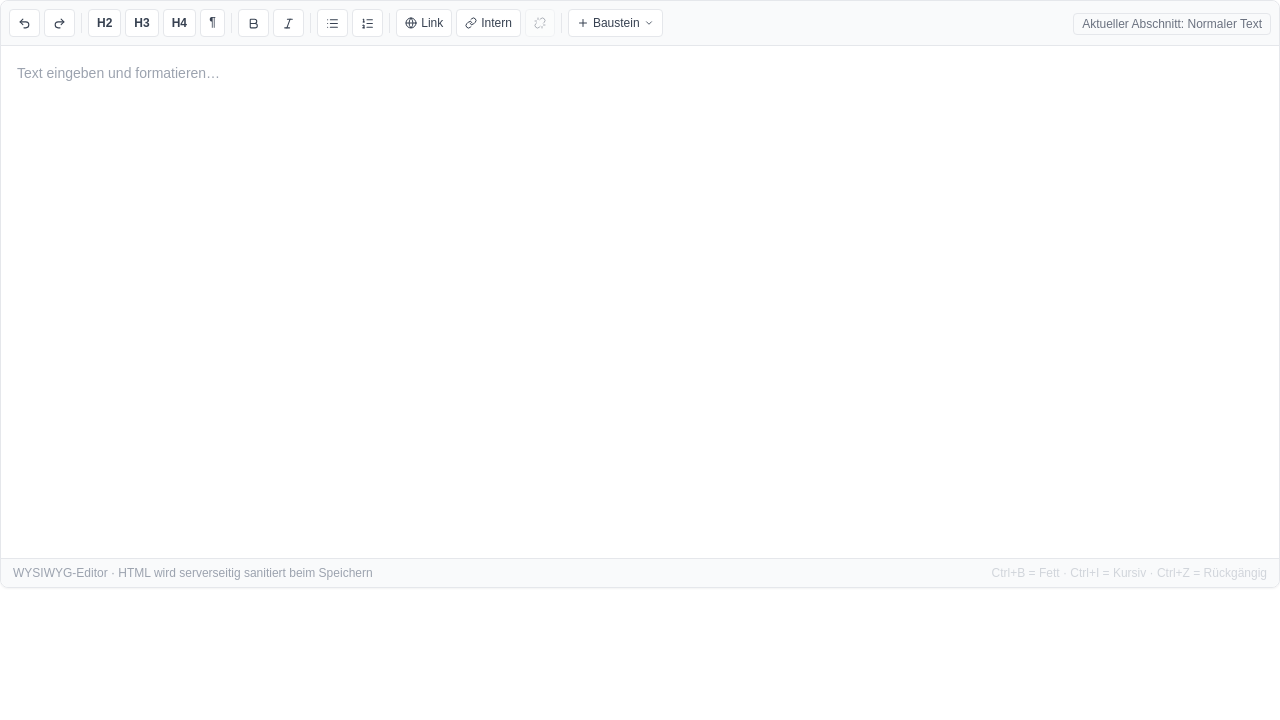
Scenario: AdminRichTextEditor: Link-Panel › Link-Panel öffnet sich bei Klick auf externen Link-Button
Press the mouse on the button titled "Externer Link": (424, 23) [396,9,452,37]
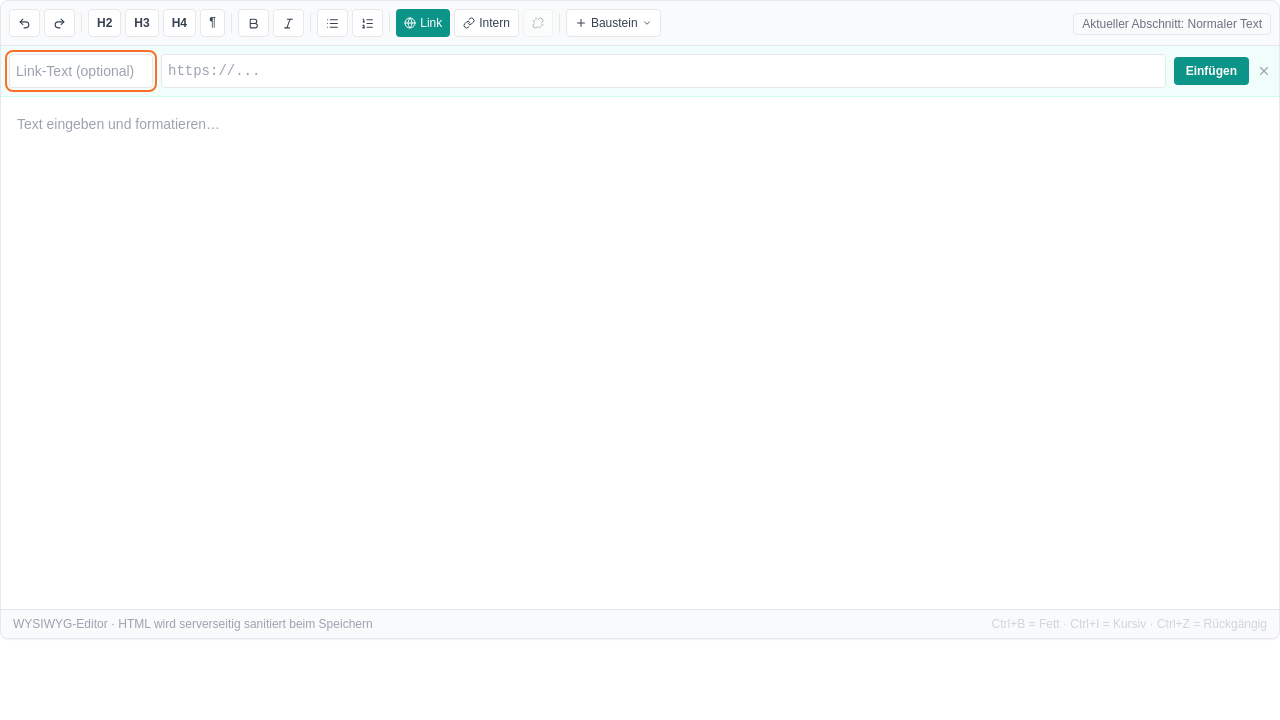
Result: the field with placeholder "Link-Text (optional)" is shown at [9,54,153,88]
Result: the field with placeholder "https://..." is shown at [161,54,1166,88]
